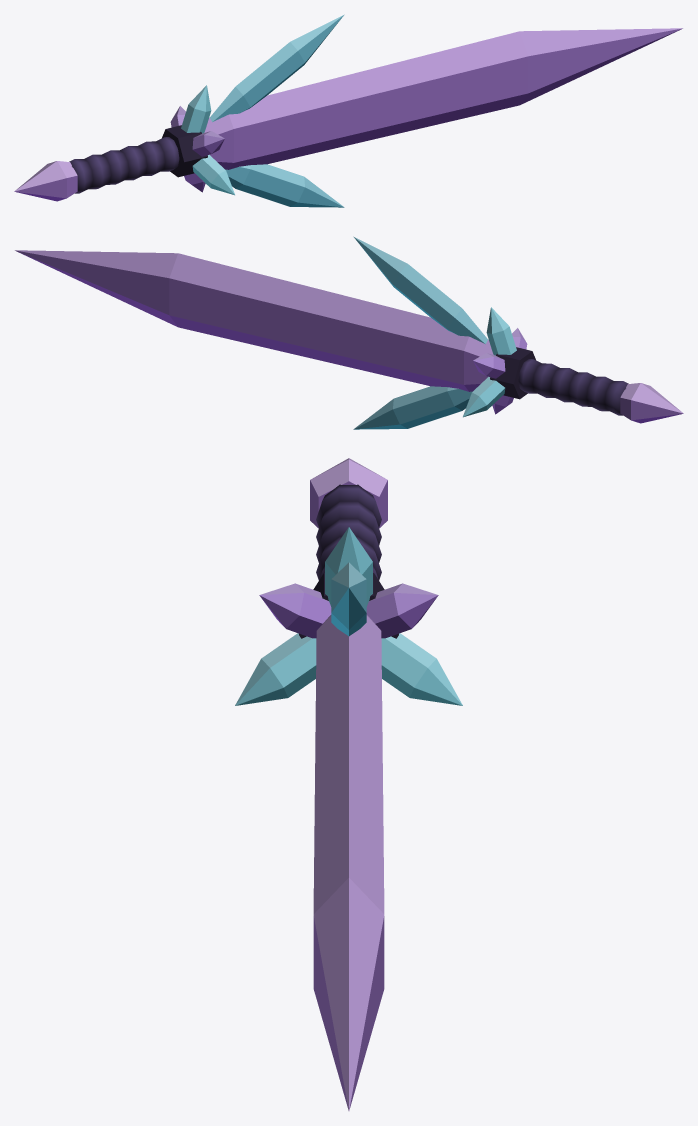
Rendered from sword_crystal.glb.
The picture shows the model from 3 angles, top to bottom: view 1: azimuth 30°, elevation 25°; view 2: azimuth 150°, elevation 25°; view 3: azimuth 270°, elevation 25°; orthographic projection. The views are drawn at different scales.
Visible parts, largest first — view 1: sword_crystal; view 2: sword_crystal; view 3: sword_crystal.
Boxes of the visible parts, box(x1,y1,x2,y2) form: sword_crystal: box(14, 14, 682, 207); sword_crystal: box(15, 236, 683, 429); sword_crystal: box(235, 458, 462, 1110).
Size of the model in its own units: 1.55 by 0.427 by 0.2289.
